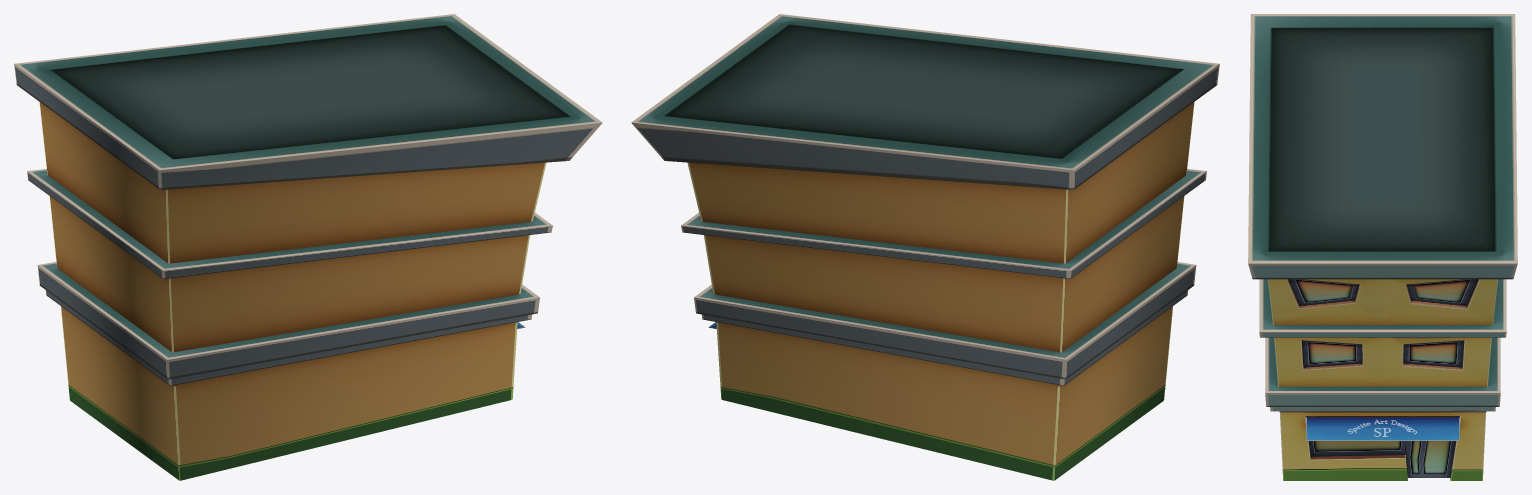
File: Scene_Building_Y_L2_01.FBX
3 renders of one model, left to right at view 1: azimuth 30°, elevation 25°; view 2: azimuth 150°, elevation 25°; view 3: azimuth 270°, elevation 25°, orthographic. The views are drawn at different scales.
Parts seen in each view (by area): view 1: Scene_Building_Y_L2_01; view 2: Scene_Building_Y_L2_01; view 3: Scene_Building_Y_L2_01.
Part boxes in pixels (x1,y1,x2,y2): Scene_Building_Y_L2_01: (14,14,602,480); Scene_Building_Y_L2_01: (631,14,1219,480); Scene_Building_Y_L2_01: (1248,14,1517,480).
Size of the model in its own units: 1517 by 1092 by 883.
1 material, 1 textured.
